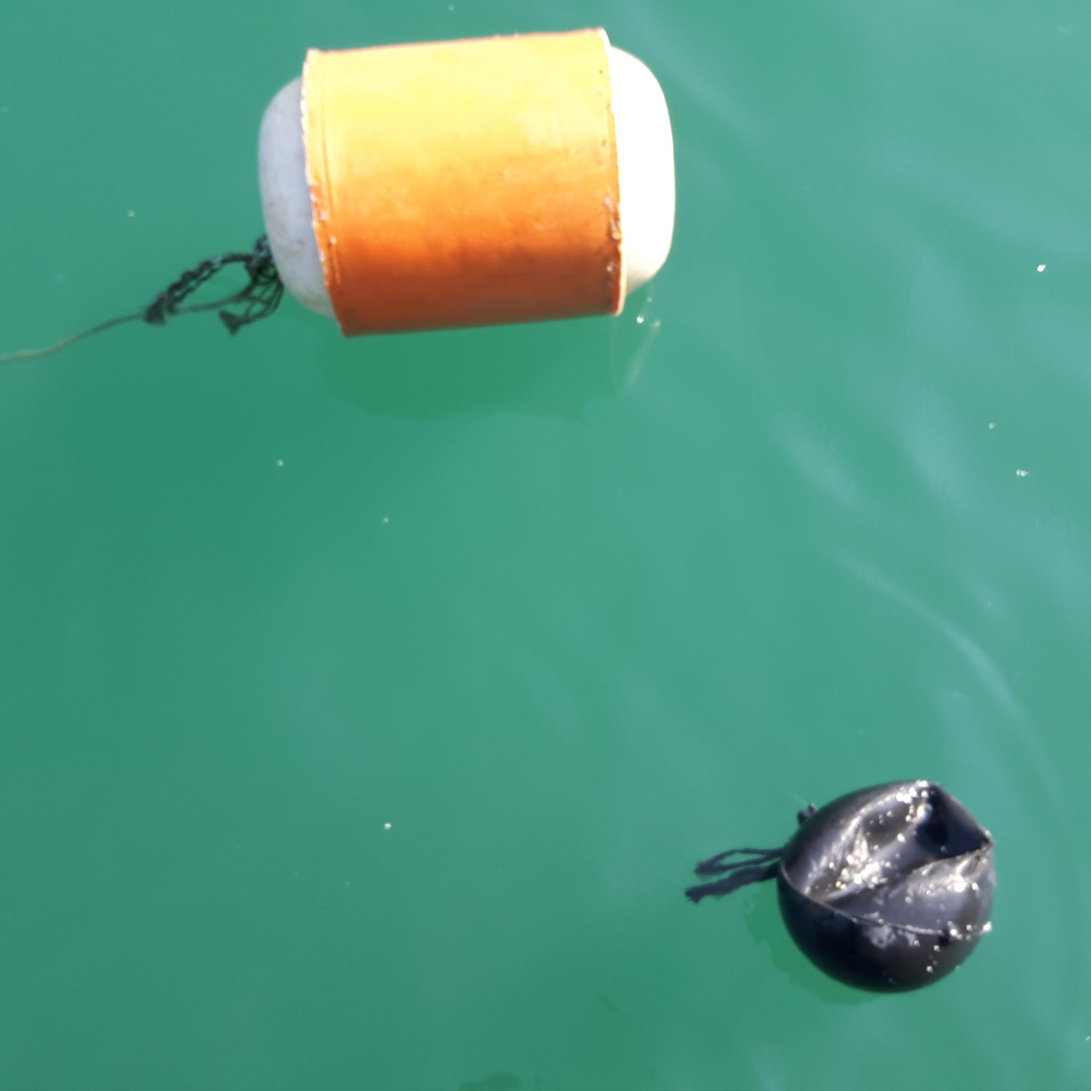sampah_terapung: (258, 29, 677, 339), (778, 780, 996, 992), (1, 235, 285, 369), (685, 848, 782, 905)
